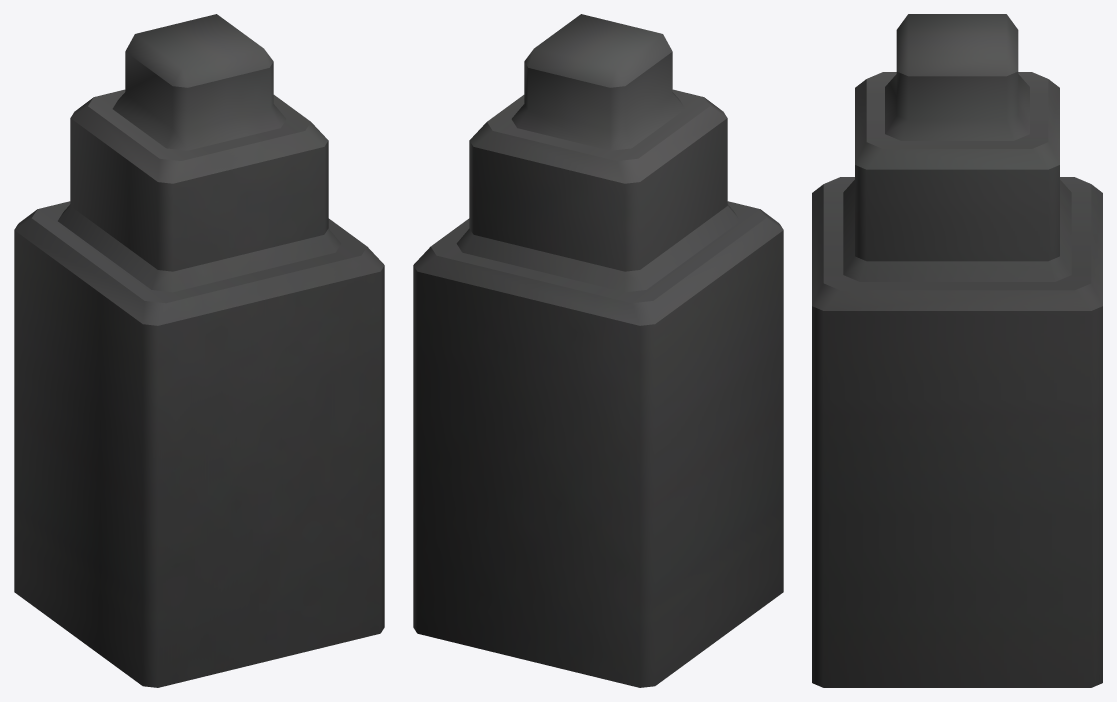
Rendered from Addon_1_1.glb.
The picture shows the model from 3 angles, left to right: view 1: azimuth 30°, elevation 25°; view 2: azimuth 150°, elevation 25°; view 3: azimuth 270°, elevation 25°; orthographic projection. The views are drawn at different scales.
Parts seen in each view (by area): view 1: Addon_1_1; view 2: Addon_1_1; view 3: Addon_1_1.
Part boxes in pixels (x1=…): Addon_1_1: x1=14, y1=14, x2=384, y2=687; Addon_1_1: x1=413, y1=14, x2=783, y2=687; Addon_1_1: x1=812, y1=14, x2=1102, y2=687.
Bounding box in the file's own units: 0.1315 × 0.2952 × 0.1315.
1 material, 1 textured.
